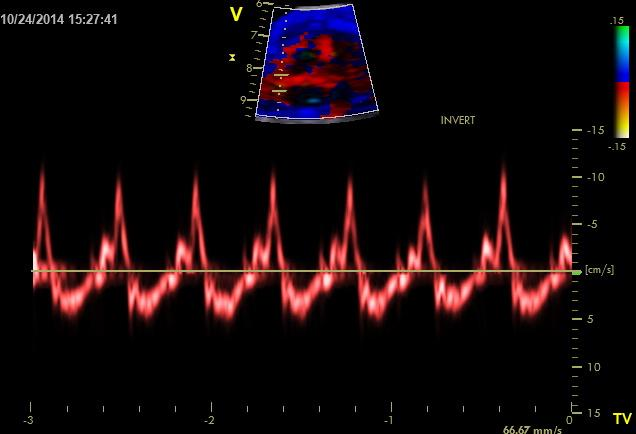Ultrasound-Waves: (34, 141, 570, 396)
